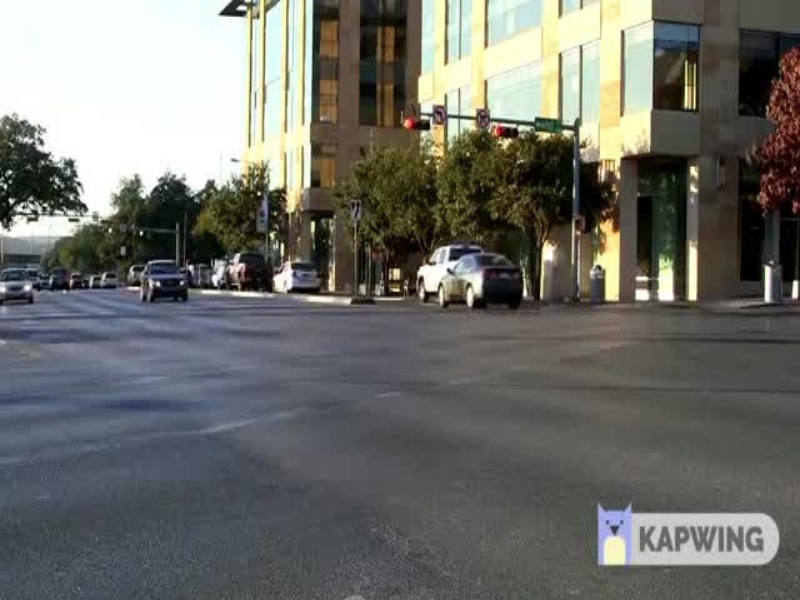car: (430, 251, 534, 311), (119, 255, 199, 311), (1, 266, 45, 306)
